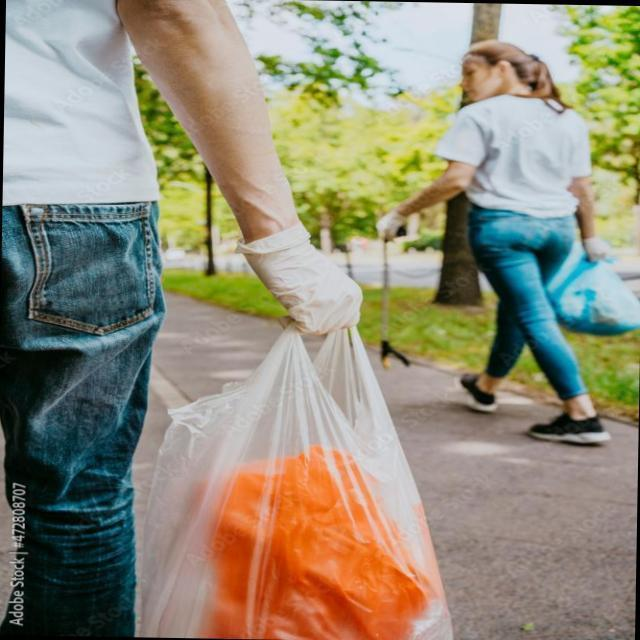Plastic_Bag: (117, 309, 465, 640)
